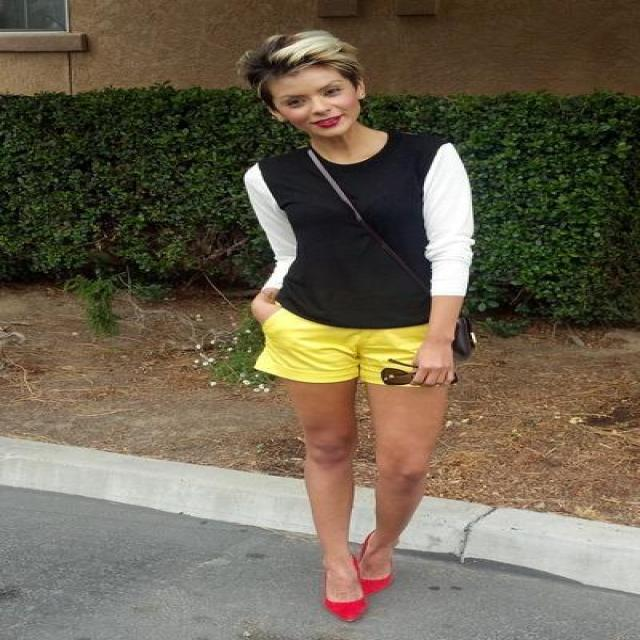bag: (316, 166, 354, 208)
shirt: (243, 119, 474, 328)
shoe: (325, 576, 389, 620)
shorts: (251, 295, 424, 383)
sunglass: (381, 368, 414, 384)
